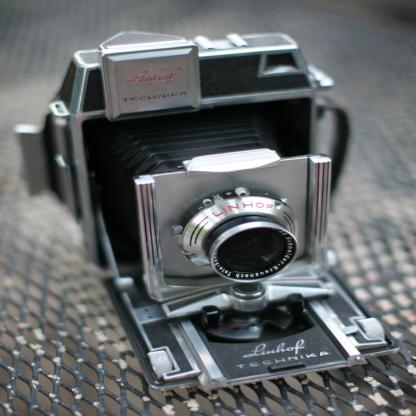Camera: (8, 29, 407, 394)
